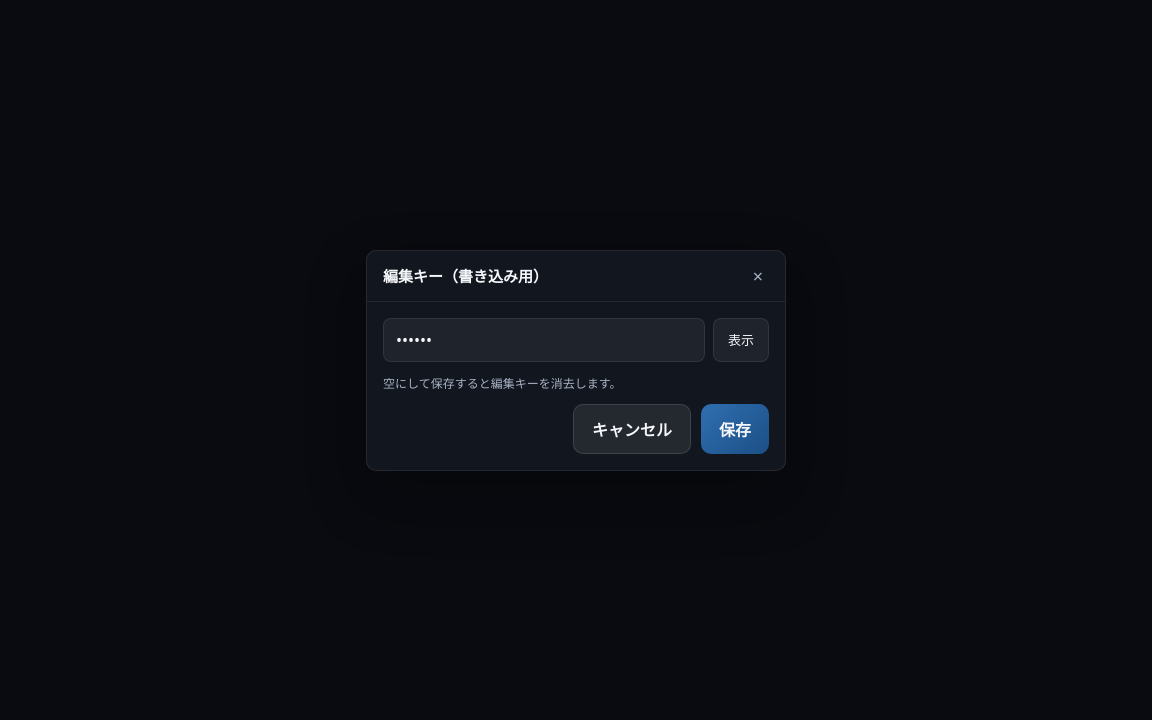
Test: WriteKeyDialog › reveals the value when 表示 is clicked
Click the button "表示" at (741, 340), box [713,318,769,362]
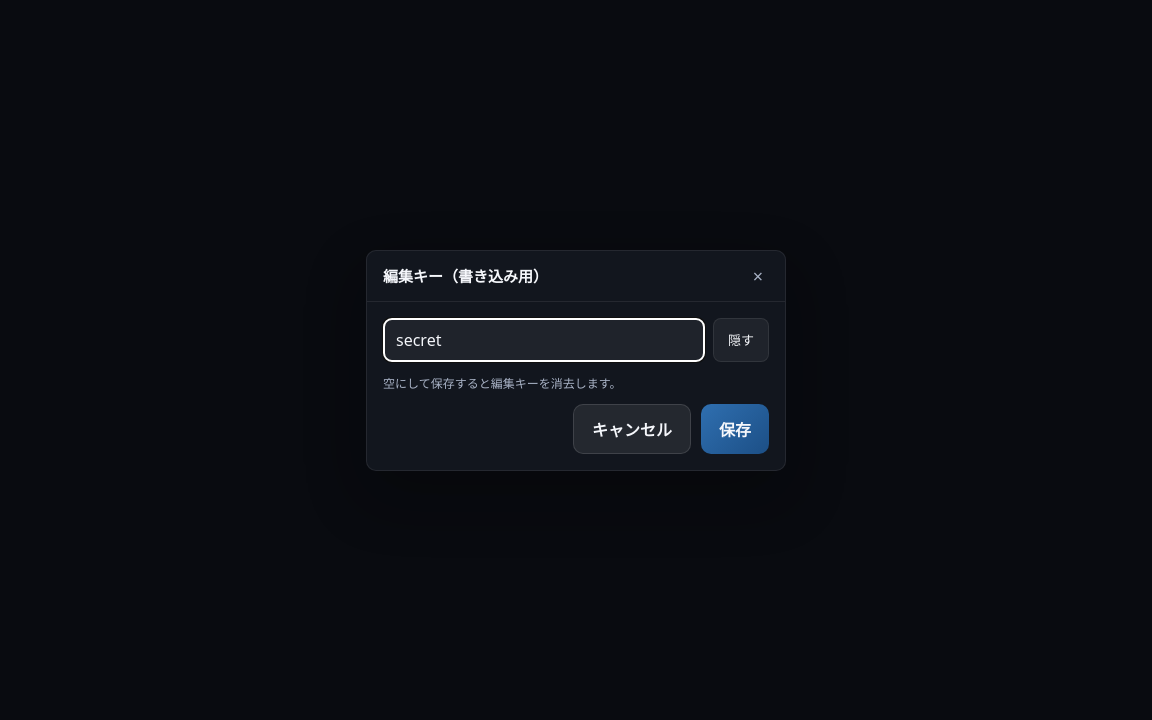
Result: the button "隠す" is shown at [713,318,769,362]
